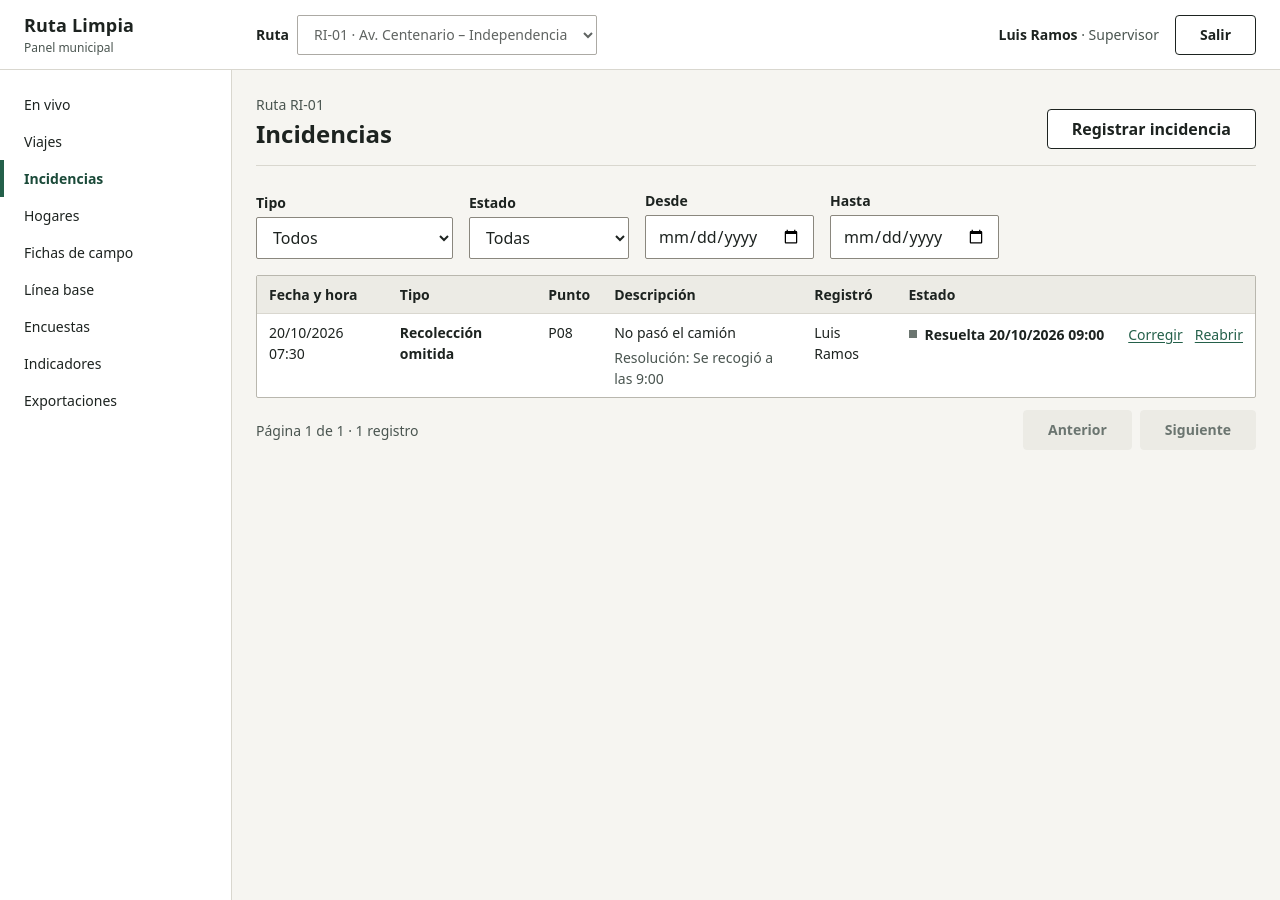
Test: IncidentsPage › shows a failed reopening as an error
The image size is (1280, 900).
Click the button named "Reabrir Recolección omitida" at (1219, 334), box x1=1195 y1=322 x2=1243 y2=346
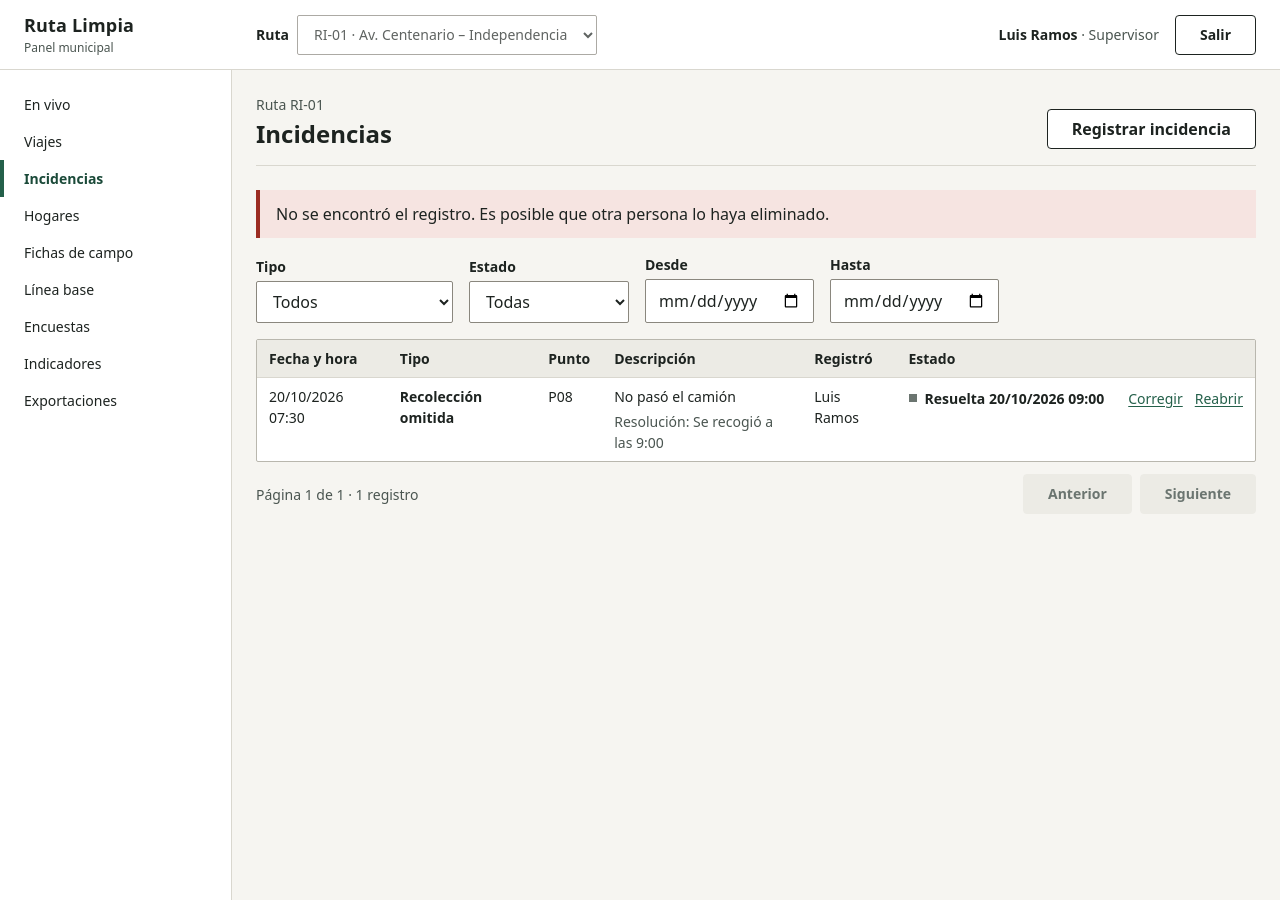
Result: the message reads "No se encontró el registro. Es posible que otra persona lo haya eliminado." at x1=276 y1=203 x2=829 y2=225
